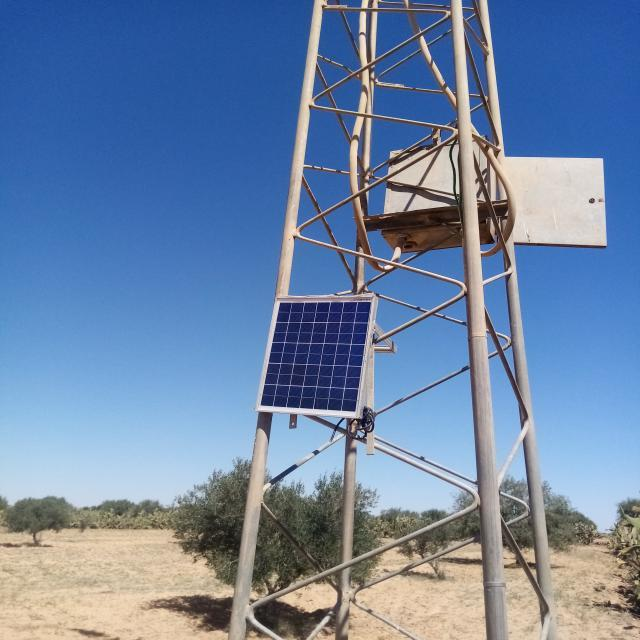no faulty: (256, 297, 374, 418)
